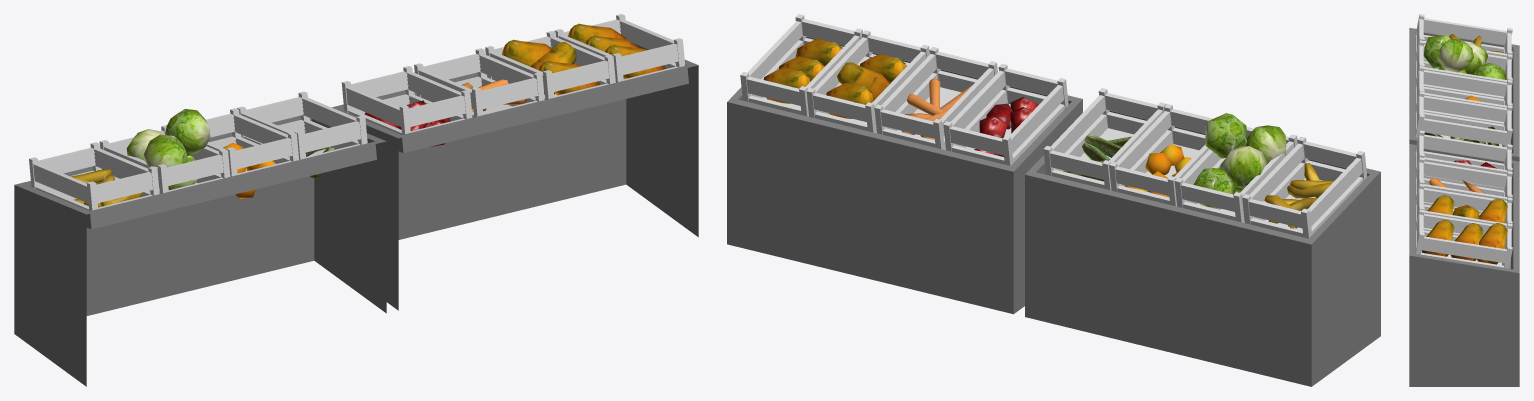
The model's file is produce_bins.glb.
3 renders of one model, left to right at view 1: azimuth 30°, elevation 25°; view 2: azimuth 150°, elevation 25°; view 3: azimuth 270°, elevation 25°, orthographic. The views are drawn at different scales.
Parts seen in each view (by area): view 1: produce_bin0, produce_bin1, Cube.049, Cube.048, Cube.050, Cube.047, Cube.046, Cube.052, Cube.051, Cube.030, lechuga.004, lechuga.003 (+3 smaller); view 2: produce_bin0, produce_bin1, Cube.048, Cube.049, Cube.050, Cube.047, Cube.046, Cube.052, Cube.051, Cube.030, lechuga.004, lechuga.002 (+8 smaller); view 3: produce_bin1, Cube.047, Cube.049, Cube.052, Cube.046, Cube.050, produce_bin0, Cube.048, Cube.051, Cube.030, lechuga.004, papaya.002 (+8 smaller).
Part boxes in pixels (<box>): produce_bin0: <box>14,116,386,386</box>; produce_bin1: <box>331,42,698,310</box>; Cube.049: <box>341,66,472,134</box>; Cube.048: <box>29,142,159,210</box>; Cube.050: <box>414,48,544,117</box>; Cube.047: <box>237,91,367,159</box>; Cube.046: <box>206,108,298,176</box>; Cube.052: <box>554,14,685,82</box>; Cube.051: <box>485,31,615,99</box>; Cube.030: <box>99,125,230,193</box>; lechuga.004: <box>165,109,210,155</box>; lechuga.003: <box>143,134,187,167</box>; produce_bin0: <box>1025,110,1380,386</box>; produce_bin1: <box>727,36,1082,314</box>; Cube.048: <box>1242,136,1367,238</box>; Cube.049: <box>943,63,1068,165</box>; Cube.050: <box>874,47,997,149</box>; Cube.047: <box>1043,88,1166,190</box>; Cube.046: <box>1109,104,1212,206</box>; Cube.052: <box>740,14,862,116</box>; Cube.051: <box>806,30,929,133</box>; Cube.030: <box>1174,126,1297,222</box>; lechuga.004: <box>1205,113,1246,158</box>; lechuga.002: <box>1222,146,1266,188</box>; produce_bin1: <box>1409,144,1519,386</box>; Cube.047: <box>1415,91,1512,147</box>; Cube.049: <box>1415,130,1512,190</box>; Cube.052: <box>1415,209,1512,268</box>; Cube.046: <box>1415,66,1512,124</box>; Cube.050: <box>1415,157,1512,213</box>; produce_bin0: <box>1409,28,1519,161</box>; Cube.048: <box>1415,14,1512,61</box>; Cube.051: <box>1415,184,1512,235</box>; Cube.030: <box>1415,40,1512,99</box>; lechuga.004: <box>1437,38,1473,72</box>; papaya.002: <box>1477,223,1507,264</box>.
Size of the model in its own units: 22.7 by 7.81 by 4.66.
Materials: 3 (1 with a texture image).
